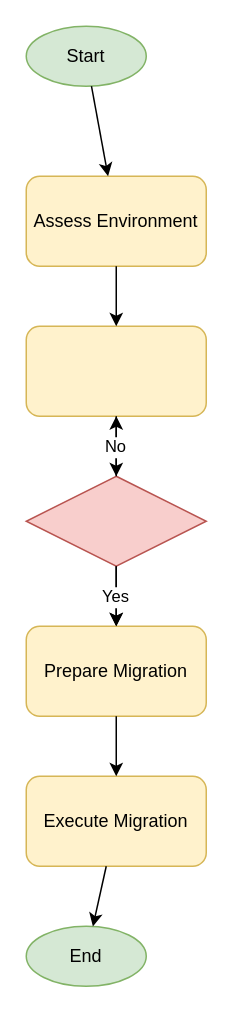
Some shapes in this 233 by 1013 pixel diagram are drawn without their labels. The shapes that lost their labels are listed below. From the top down, each one's centre as x and y in pixels, then its label:
(115,370): Select OS
(115,520): Is OS Supported?
